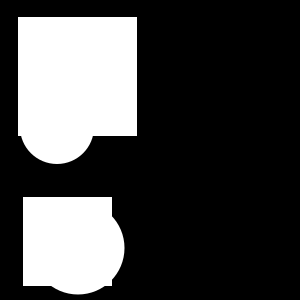circle: (18, 17, 137, 136), (23, 197, 112, 286)
rectangle: (32, 202, 125, 294), (20, 90, 94, 164)
